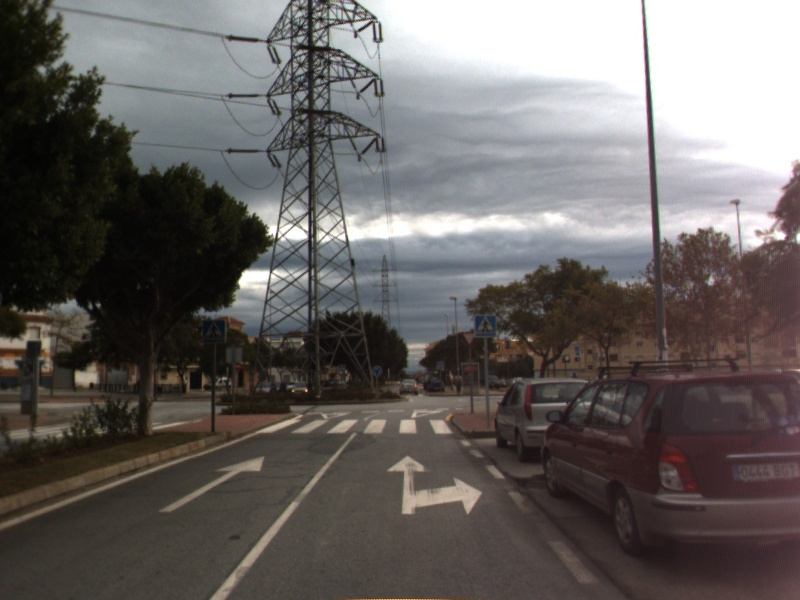STRAIGHT: (156, 454, 266, 514)
STRAIGHT_RIGHT: (385, 453, 485, 516)
